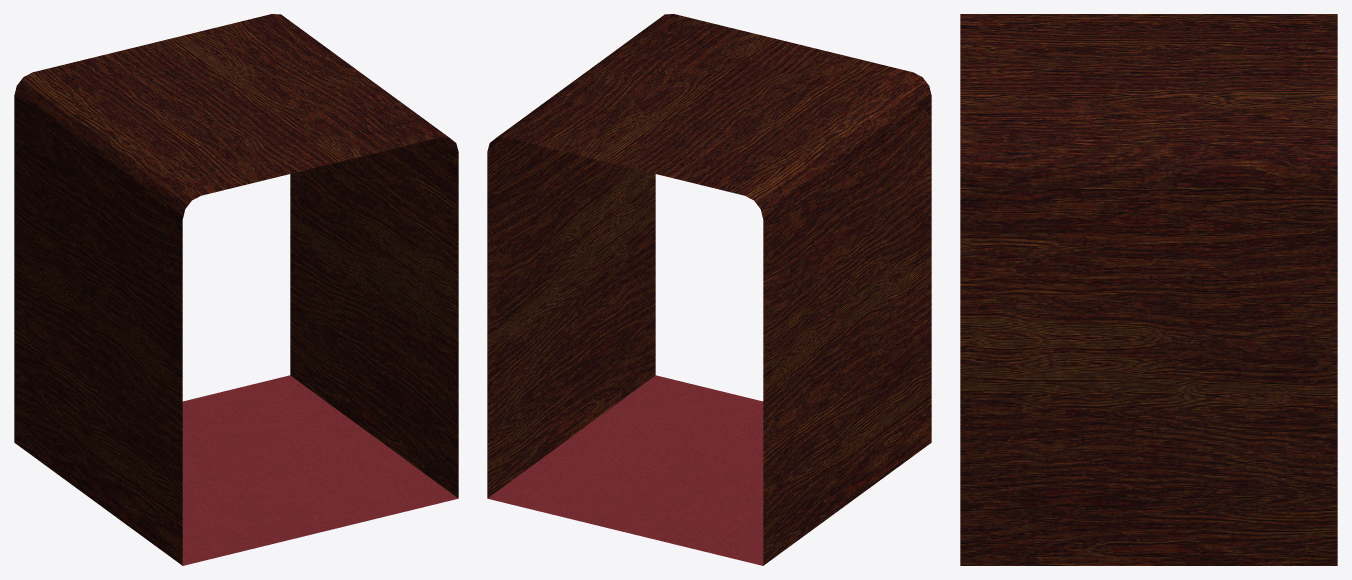
File: Passaggio_vagoni.fbx
3 views of the same model, side by side, from view 1: azimuth 30°, elevation 25°; view 2: azimuth 150°, elevation 25°; view 3: azimuth 270°, elevation 25° (orthographic). The views are drawn at different scales.
Parts seen in each view (by area): view 1: Corridoio, pavimento; view 2: Corridoio, pavimento; view 3: Corridoio.
Part boxes in pixels (x1,y1,x2,y2): Corridoio: [14, 14, 458, 565]; pavimento: [182, 375, 457, 565]; Corridoio: [487, 14, 931, 565]; pavimento: [488, 375, 763, 565]; Corridoio: [960, 14, 1337, 565].
Bounding box in the file's own units: 189 × 239 × 200.
